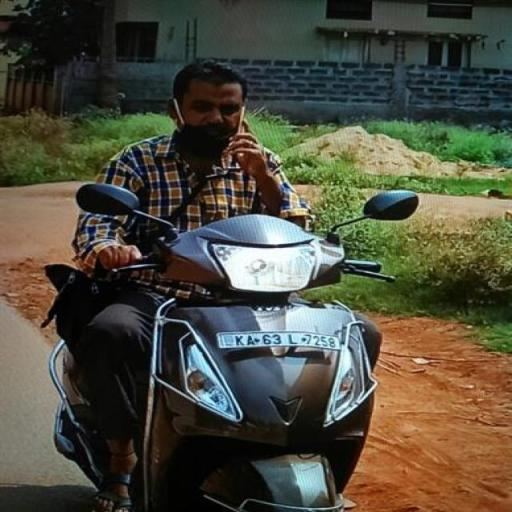numberplate: (213, 330, 344, 350)
using mobile: (226, 95, 260, 169)
